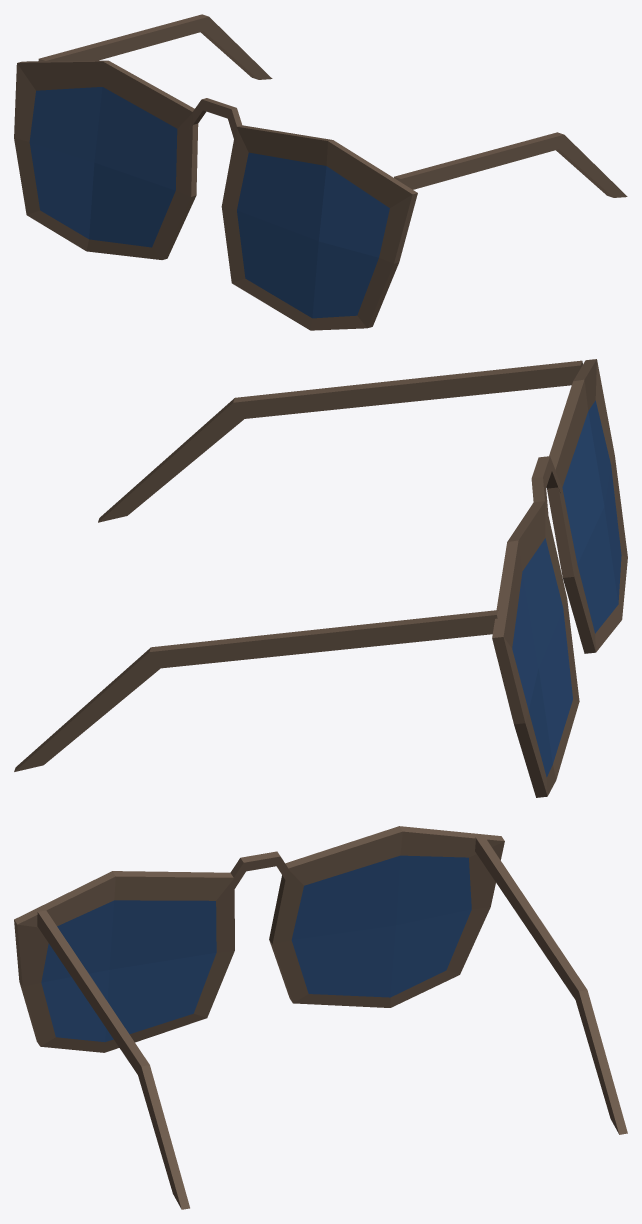
The model's file is Isl_11_Sunglasses_1.fbx.
The picture shows the model from 3 angles, top to bottom: view 1: azimuth 30°, elevation 25°; view 2: azimuth 150°, elevation 25°; view 3: azimuth 270°, elevation 25°; orthographic projection. The views are drawn at different scales.
Visible parts, largest first — view 1: Isl_11_Sunglasses_1; view 2: Isl_11_Sunglasses_1; view 3: Isl_11_Sunglasses_1.
Part boxes in pixels (left/top/right/bottom): Isl_11_Sunglasses_1: left=14, top=14, right=627, bottom=330; Isl_11_Sunglasses_1: left=14, top=359, right=627, bottom=797; Isl_11_Sunglasses_1: left=14, top=826, right=627, bottom=1209.
Bounding box in the file's own units: 21.33 × 23.08 × 7.9.
1 material, 1 textured.
